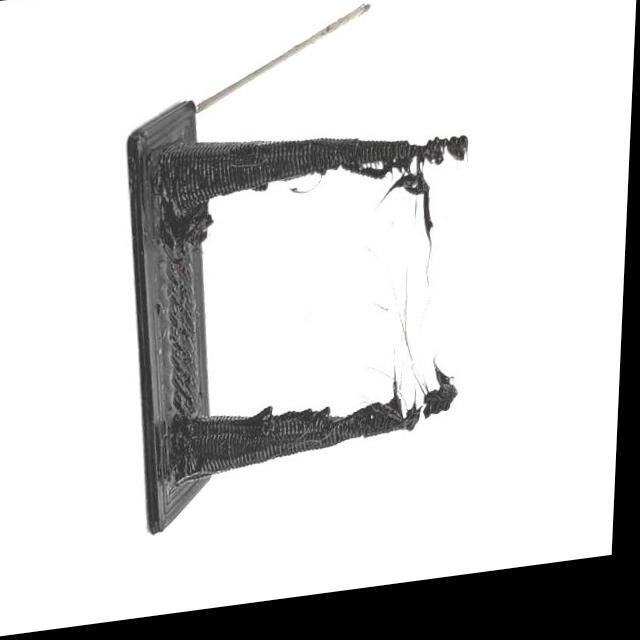stringing: (374, 160, 448, 418)
